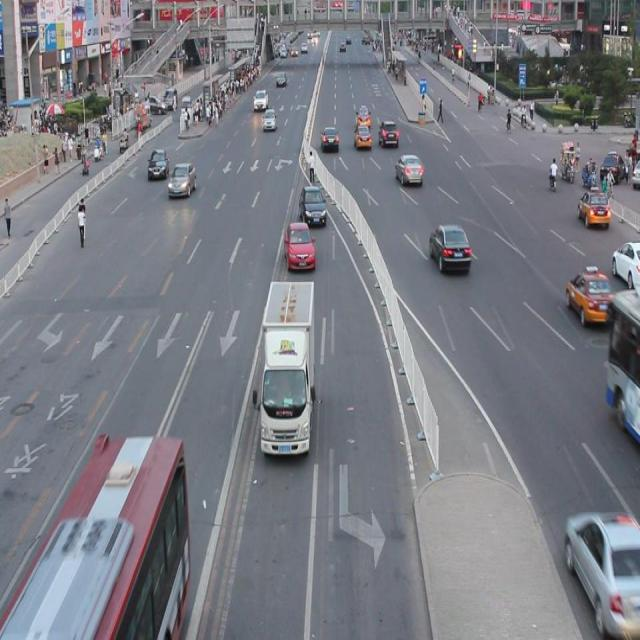bus: (258, 278, 314, 454)
car: (562, 510, 640, 628), (564, 268, 616, 325), (429, 222, 470, 274), (284, 222, 314, 270), (610, 238, 640, 286), (575, 186, 610, 226), (167, 162, 196, 196), (300, 185, 324, 224), (395, 154, 422, 185)
van: (1, 434, 190, 640), (605, 289, 640, 443)
